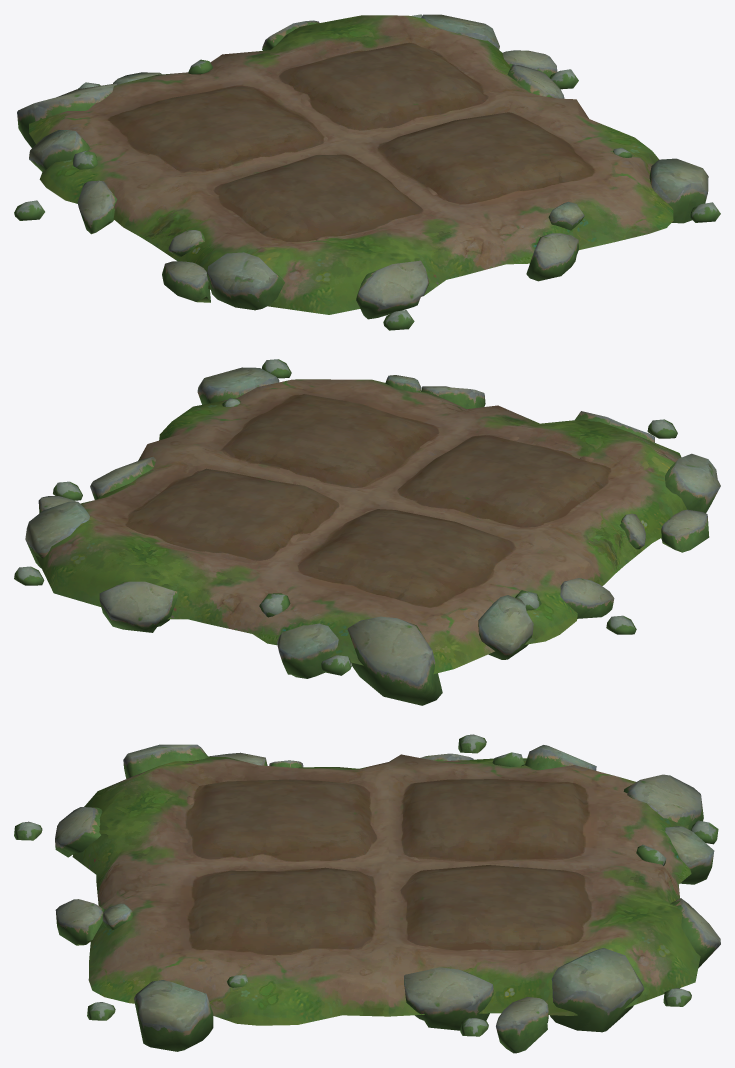
Rendered from Homeworld_Exterior_Common_Thing_Field_02_Lod0.fbx.
The picture shows the model from 3 angles, top to bottom: view 1: azimuth 30°, elevation 25°; view 2: azimuth 150°, elevation 25°; view 3: azimuth 270°, elevation 25°; orthographic projection. The views are drawn at different scales.
Parts seen in each view (by area): view 1: Homeworld_Exterior_Common_Thing_Field_02_Lod0; view 2: Homeworld_Exterior_Common_Thing_Field_02_Lod0; view 3: Homeworld_Exterior_Common_Thing_Field_02_Lod0.
Part boxes in pixels (<box>): Homeworld_Exterior_Common_Thing_Field_02_Lod0: <box>14,14,720,330</box>; Homeworld_Exterior_Common_Thing_Field_02_Lod0: <box>14,359,720,705</box>; Homeworld_Exterior_Common_Thing_Field_02_Lod0: <box>14,734,720,1053</box>.
Bounding box in the file's own units: 4.76 × 0.6089 × 4.79.
